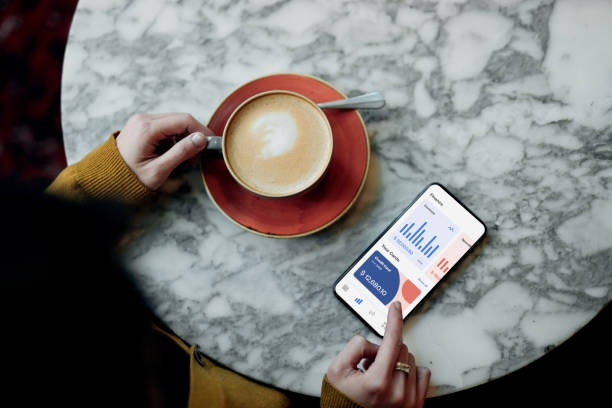phone: (333, 182, 488, 341)
